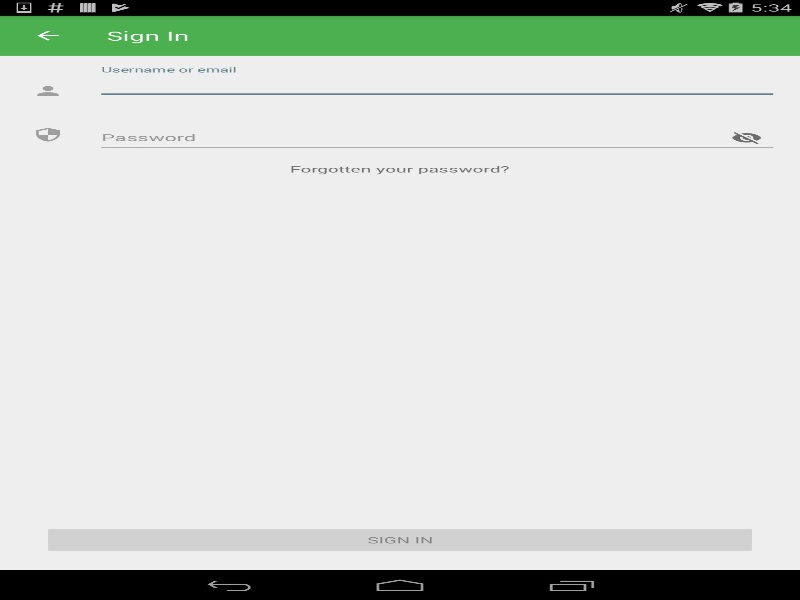Button: (42, 525, 757, 555), (10, 15, 85, 55), (714, 123, 778, 153)
Input: (96, 123, 778, 153), (96, 72, 778, 99)
